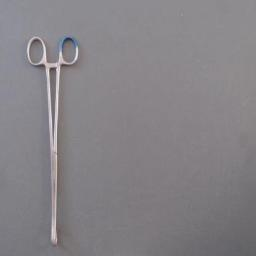Sponge Forceps: (22, 29, 84, 253)
